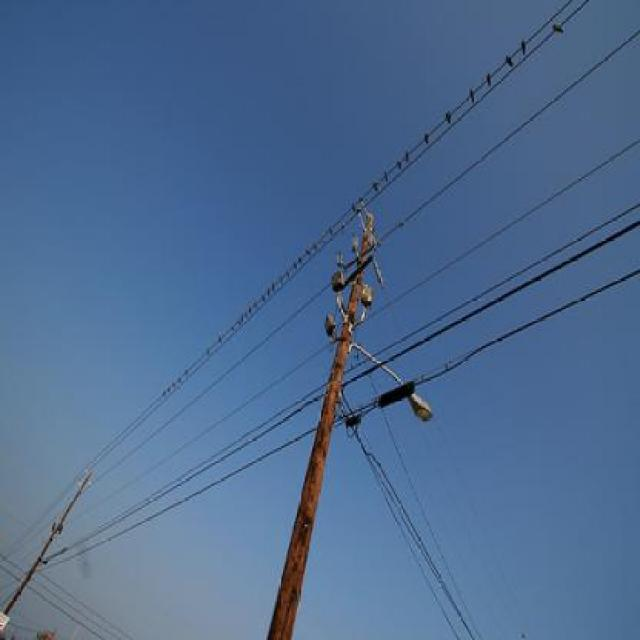pole: (232, 180, 388, 640)
